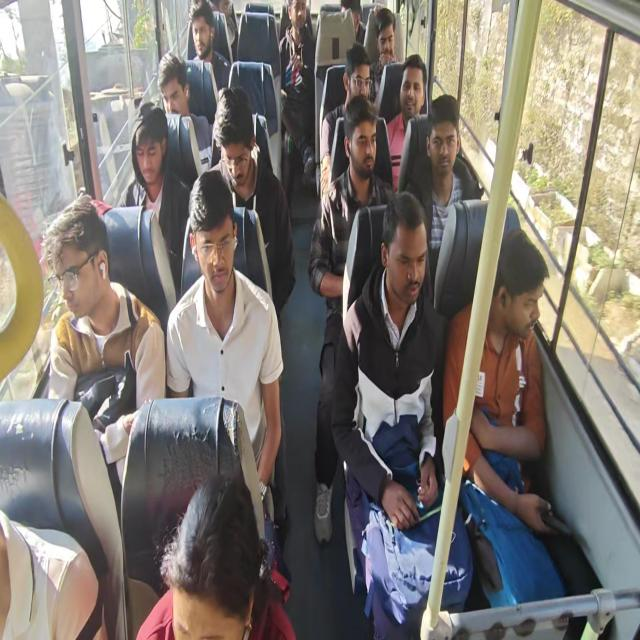person: (330, 190, 474, 638), (165, 169, 284, 524), (40, 193, 166, 525), (308, 94, 396, 546), (442, 227, 555, 538), (135, 471, 263, 639), (208, 85, 296, 326), (118, 103, 194, 302), (0, 508, 108, 639), (405, 94, 465, 306), (320, 42, 373, 196), (157, 52, 212, 190), (278, 0, 316, 182), (183, 0, 231, 124), (385, 54, 427, 191), (369, 7, 399, 104), (210, 0, 238, 64), (340, 0, 366, 46)
